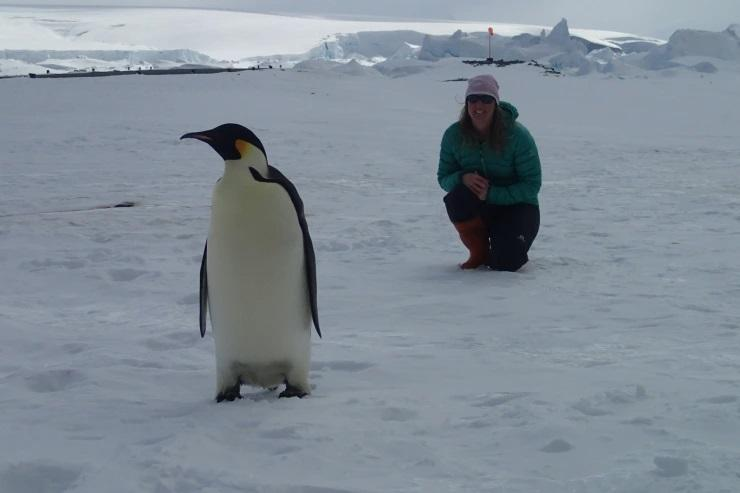emporer: (178, 124, 325, 402)
